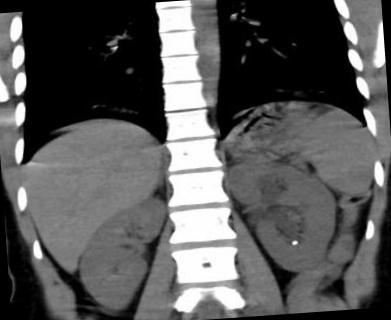Tas_Var: (290, 240, 298, 248)
